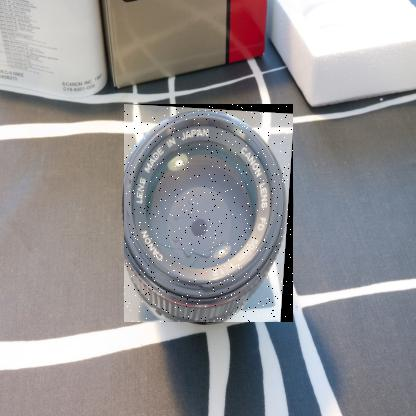Camera: (125, 105, 295, 324)
